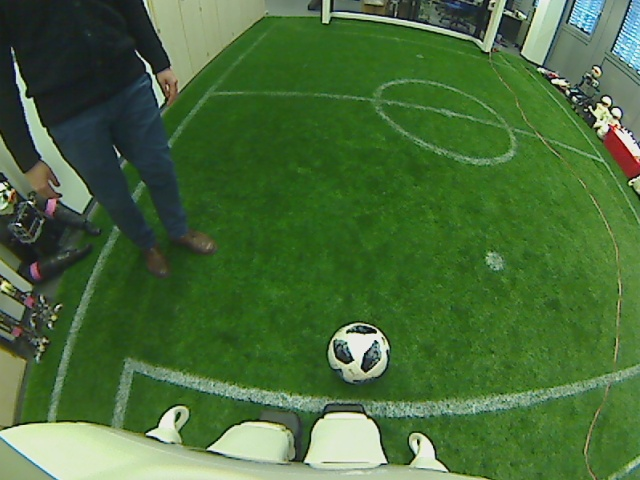ball: (327, 321, 391, 383)
